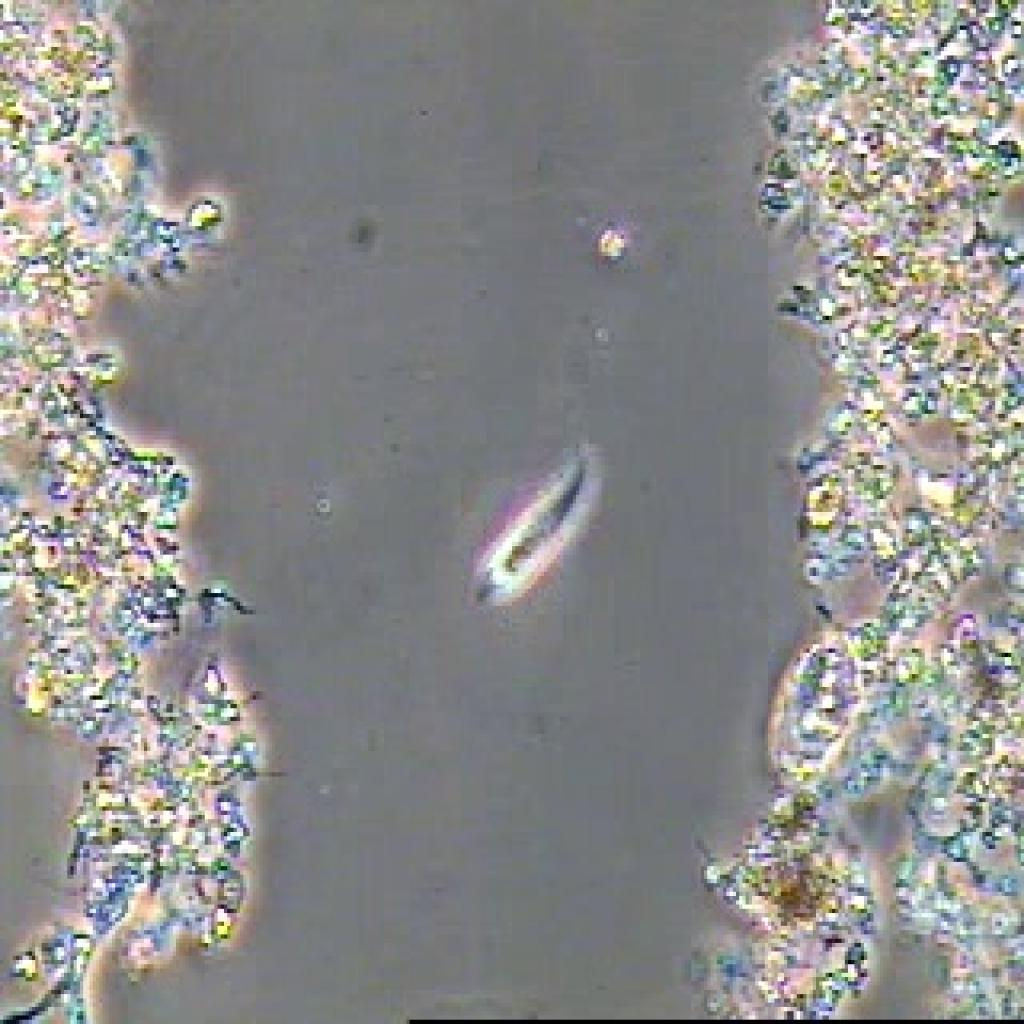Pristina: (430, 424, 610, 630)
